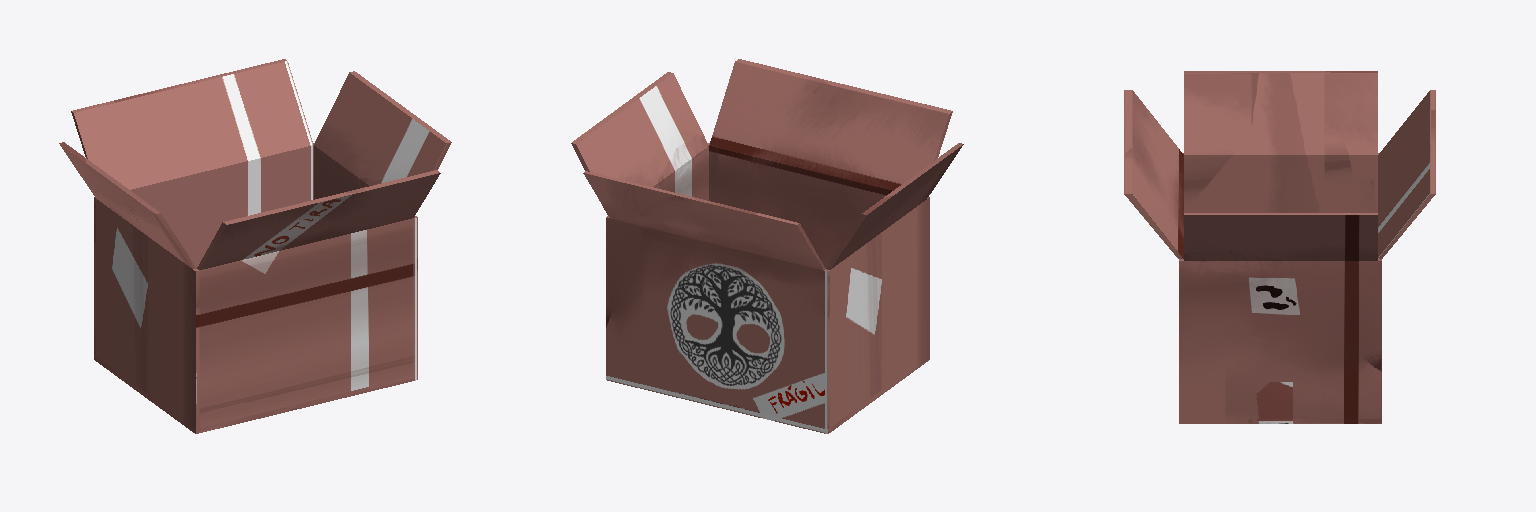
The picture shows the model from 3 angles: view 1: azimuth 30°, elevation 25°; view 2: azimuth 150°, elevation 25°; view 3: azimuth 270°, elevation 25°; orthographic projection.
Visible parts, largest first — view 1: Cube.003_Cube.001_None.002; view 2: Cube.003_Cube.001_None.002; view 3: Cube.003_Cube.001_None.002.
Boxes of the visible parts, <box> form: Cube.003_Cube.001_None.002: <box>59,59,451,433</box>; Cube.003_Cube.001_None.002: <box>571,59,963,433</box>; Cube.003_Cube.001_None.002: <box>1124,71,1435,423</box>.
Bounding box in the file's own units: 1.02 × 0.7508 × 0.9301.
1 materials, 1 textured.